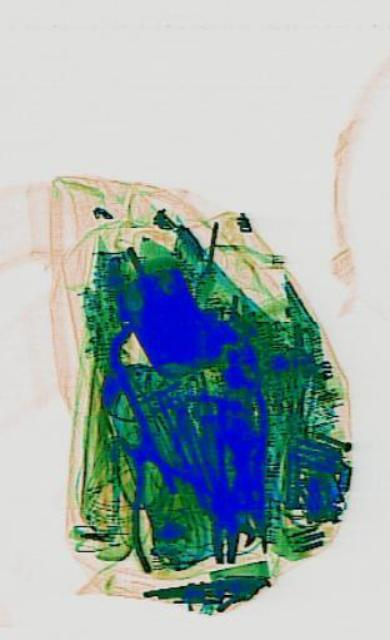Pliers: (96, 398, 212, 574), (197, 432, 243, 562)
